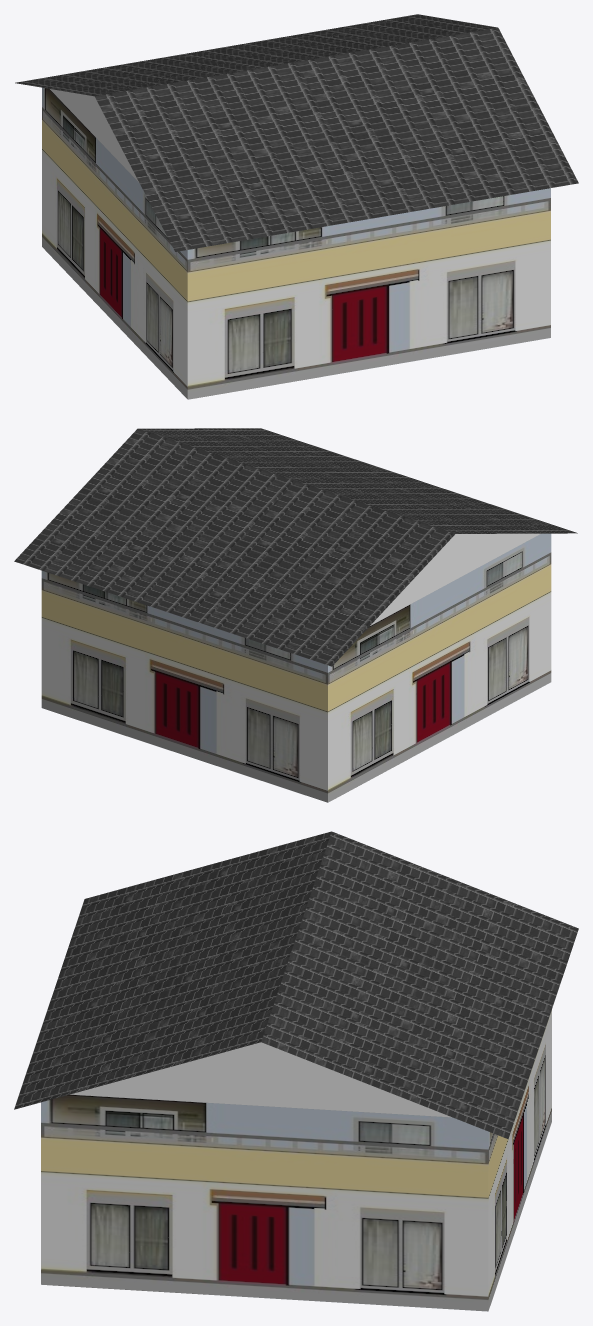
3 views of the same model, one above another, from view 1: azimuth 30°, elevation 25°; view 2: azimuth 150°, elevation 25°; view 3: azimuth 270°, elevation 25° (orthographic). The views are drawn at different scales.
Visible parts, largest first — view 1: CityEngineMaterial_16_m, CityEngineMaterial_15_m, CityEngineMaterial_3_m; view 2: CityEngineMaterial_15_m, CityEngineMaterial_16_m, CityEngineMaterial_3_m; view 3: CityEngineMaterial_16_m, CityEngineMaterial_15_m, CityEngineMaterial_3_m.
Boxes of the visible parts, box(x1,y1,x2,y2) form: CityEngineMaterial_16_m: box(15, 14, 578, 251); CityEngineMaterial_15_m: box(42, 87, 550, 399); CityEngineMaterial_3_m: box(50, 89, 139, 182); CityEngineMaterial_15_m: box(41, 533, 551, 802); CityEngineMaterial_16_m: box(14, 428, 577, 666); CityEngineMaterial_3_m: box(370, 533, 540, 625); CityEngineMaterial_16_m: box(14, 831, 578, 1138); CityEngineMaterial_15_m: box(41, 1010, 551, 1311); CityEngineMaterial_3_m: box(70, 1042, 451, 1117).
Bounding box in the file's own units: 22.55 × 11.66 × 22.41.
